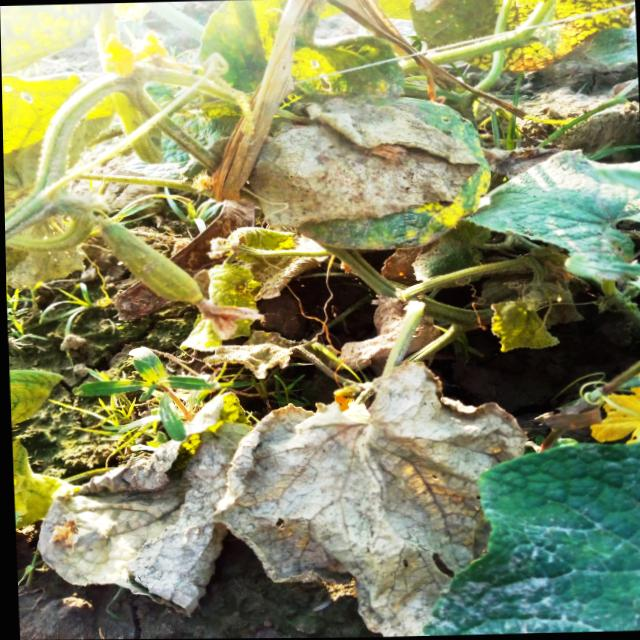Bacterial-Wilt: (208, 355, 523, 634), (32, 386, 249, 621), (247, 98, 479, 232)
